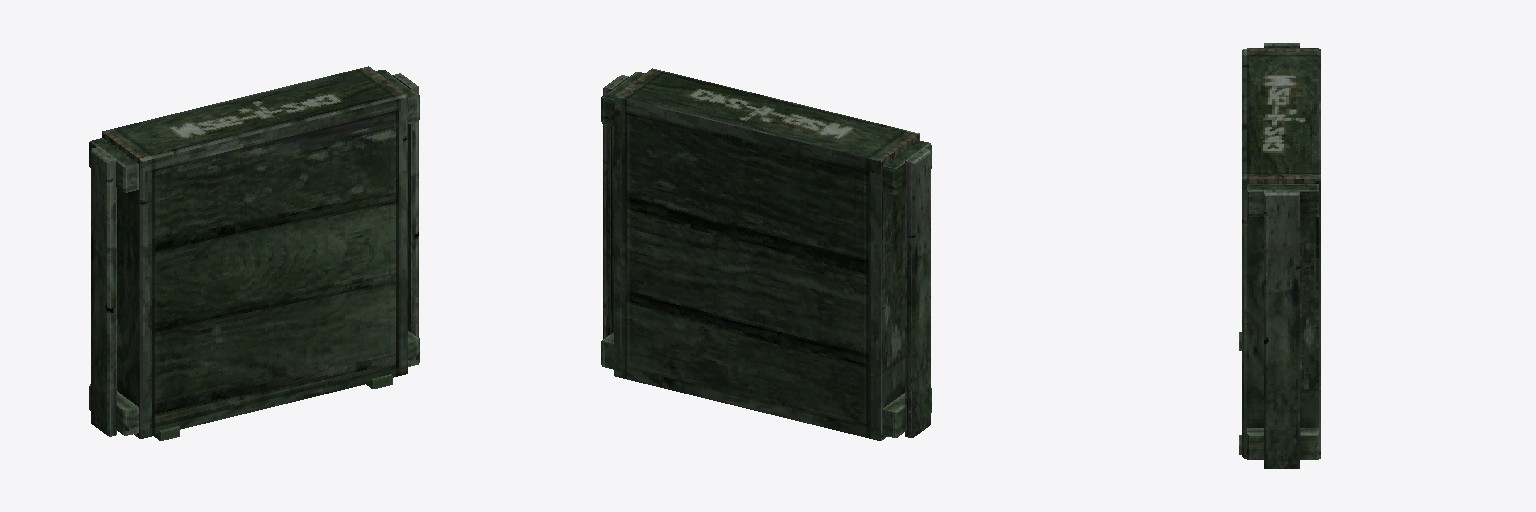
3 views of the same model, side by side, from view 1: azimuth 30°, elevation 25°; view 2: azimuth 150°, elevation 25°; view 3: azimuth 270°, elevation 25° (orthographic).
Parts seen in each view (by area): view 1: studio.crateshell_ref.mesh_0; view 2: studio.crateshell_ref.mesh_0; view 3: studio.crateshell_ref.mesh_0.
Part boxes in pixels (bbox=[...]): studio.crateshell_ref.mesh_0: bbox=[89, 66, 419, 440]; studio.crateshell_ref.mesh_0: bbox=[601, 68, 931, 440]; studio.crateshell_ref.mesh_0: bbox=[1239, 43, 1320, 468].
Size of the model in its own units: 19.93 by 17.3 by 4.56.
1 materials, 1 textured.